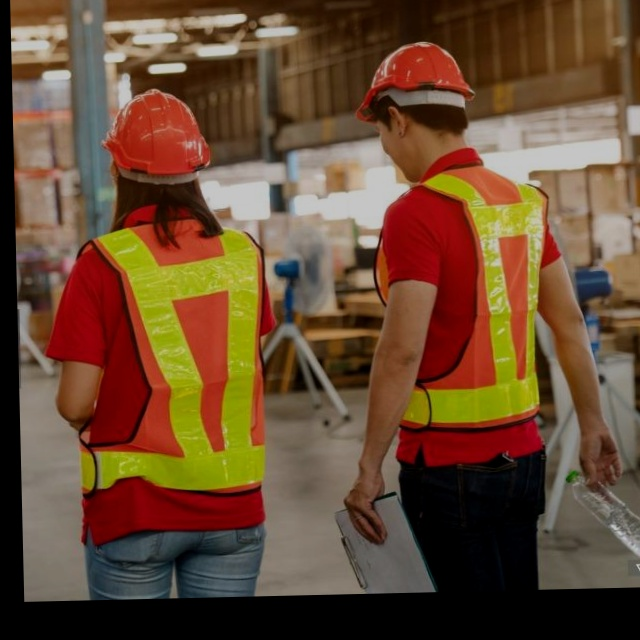Con_Casco: (353, 40, 477, 170), (98, 88, 211, 211)
Con_Chaleco: (68, 216, 273, 500), (375, 171, 556, 434)
